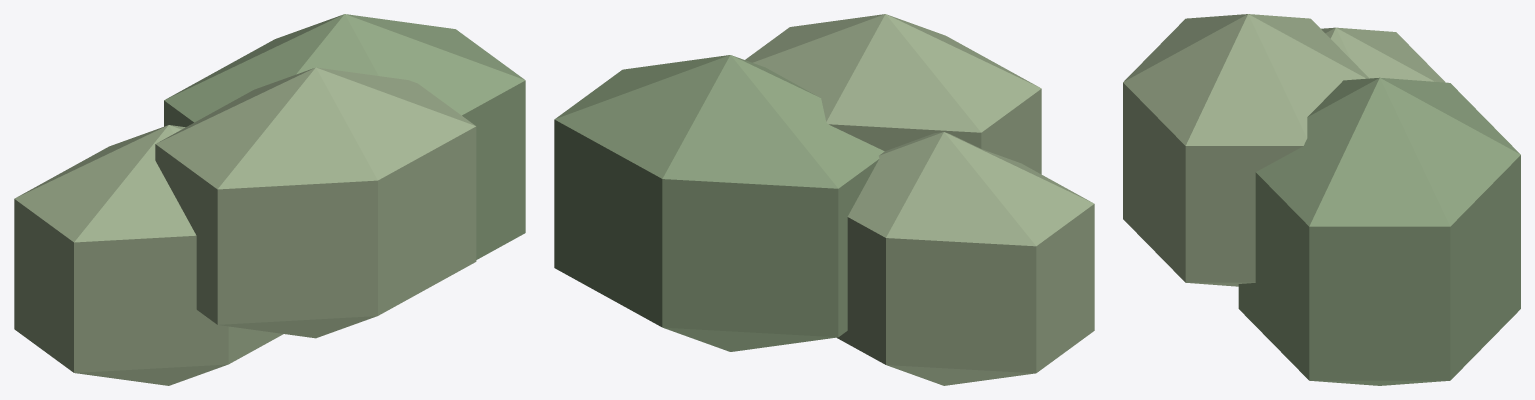
Rendered from bush.glb.
3 renders of one model, left to right at view 1: azimuth 30°, elevation 25°; view 2: azimuth 150°, elevation 25°; view 3: azimuth 270°, elevation 25°, orthographic. The views are drawn at different scales.
Visible parts, largest first — view 1: bush; view 2: bush; view 3: bush.
Part boxes in pixels (bbox=[...]): bush: bbox=[14, 14, 525, 385]; bush: bbox=[554, 14, 1094, 385]; bush: bbox=[1123, 14, 1520, 385].
Bounding box in the file's own units: 0.3317 × 0.22 × 0.2419.
